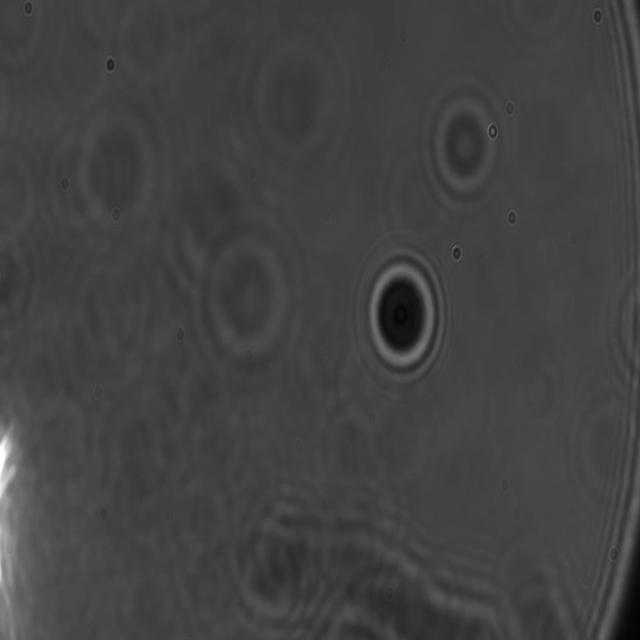DCELL: (358, 243, 448, 386)
